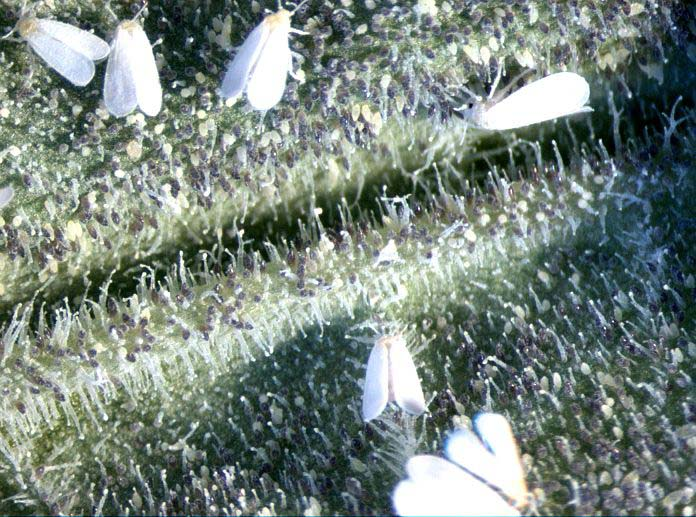whitefly: (453, 55, 592, 151), (223, 1, 307, 110), (6, 2, 112, 87), (448, 411, 532, 510), (362, 319, 430, 423), (103, 2, 163, 117)
